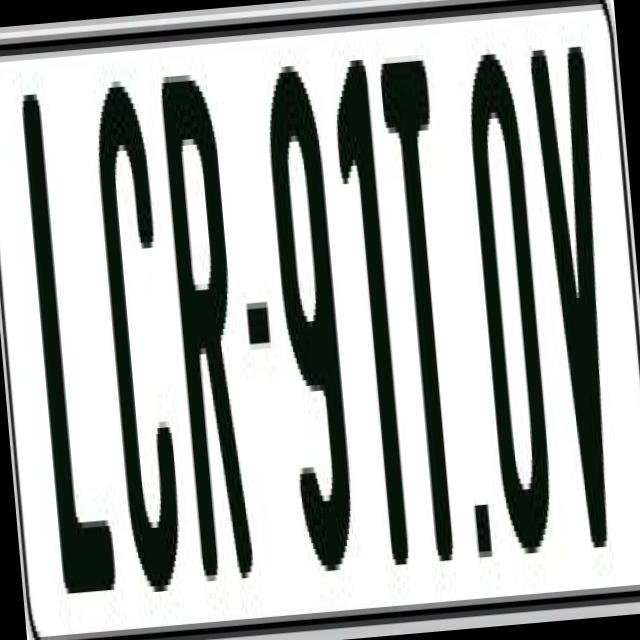0: (459, 46, 556, 567)
1: (324, 42, 406, 549)
9: (260, 63, 364, 578)
C: (86, 68, 180, 588)
L: (16, 72, 123, 606)
R: (157, 72, 260, 587)
T: (376, 48, 474, 580)
V: (524, 34, 626, 544)
